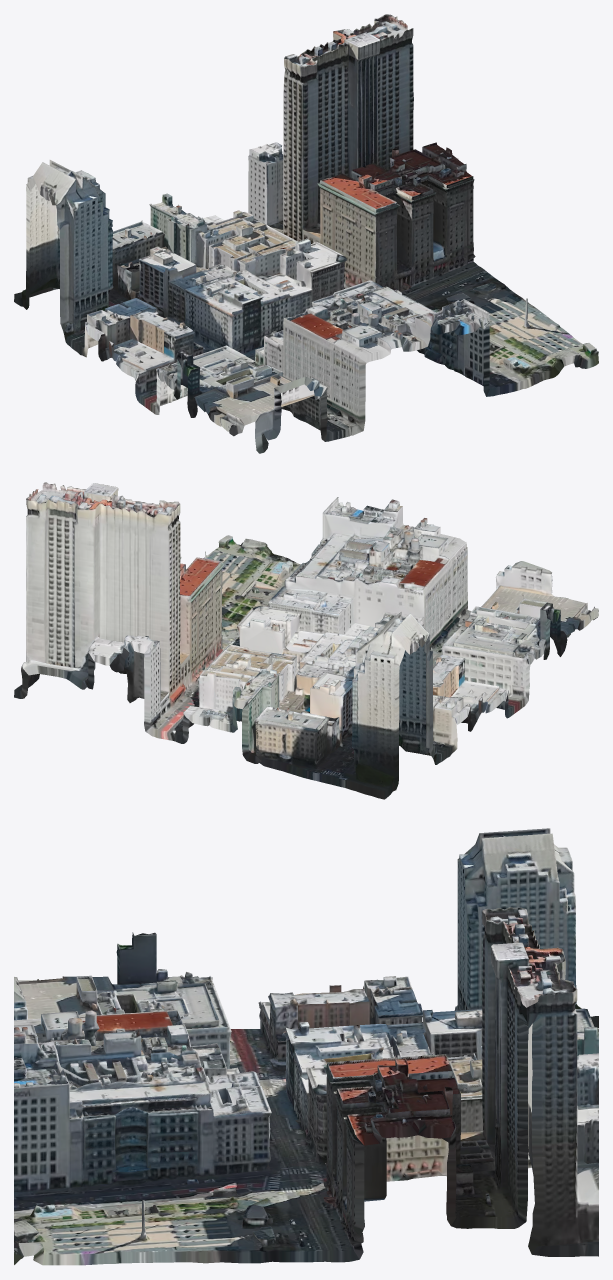
Rendered from z17-20968-50656-h0-yup-uvflip-v3-world.glb.
3 views of the same model, one above another, from view 1: azimuth 30°, elevation 25°; view 2: azimuth 150°, elevation 25°; view 3: azimuth 270°, elevation 25° (orthographic). The views are drawn at different scales.
Size of the model in its own units: 242 by 137 by 243.
1 material, 1 textured.
